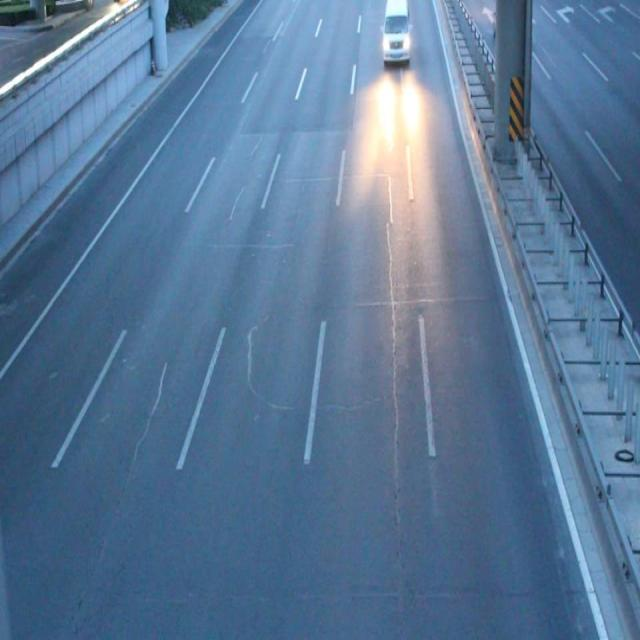car: (493, 1, 534, 44)
truck: (382, 1, 409, 62)
